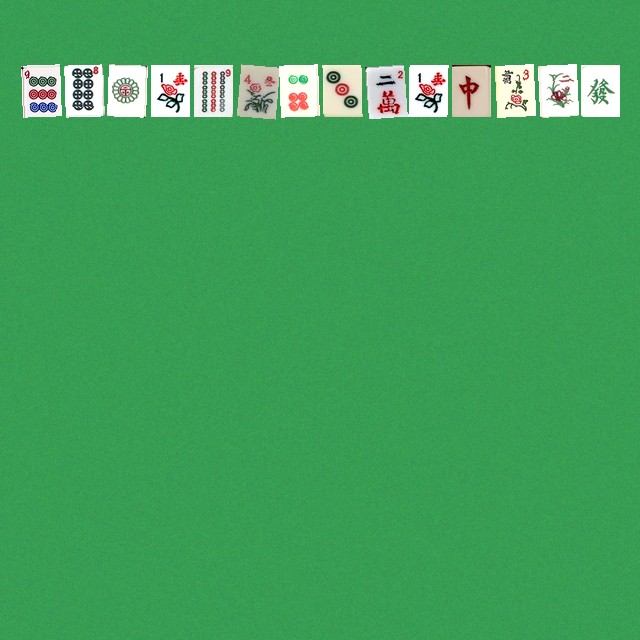tile: (21, 64, 60, 116), (64, 64, 103, 116), (107, 64, 146, 116), (150, 64, 189, 116), (193, 64, 232, 116), (236, 64, 275, 116), (279, 64, 318, 116), (322, 64, 361, 116), (365, 64, 404, 116), (408, 64, 447, 116), (451, 64, 490, 116), (494, 64, 533, 116), (537, 64, 576, 116), (580, 64, 619, 116)
